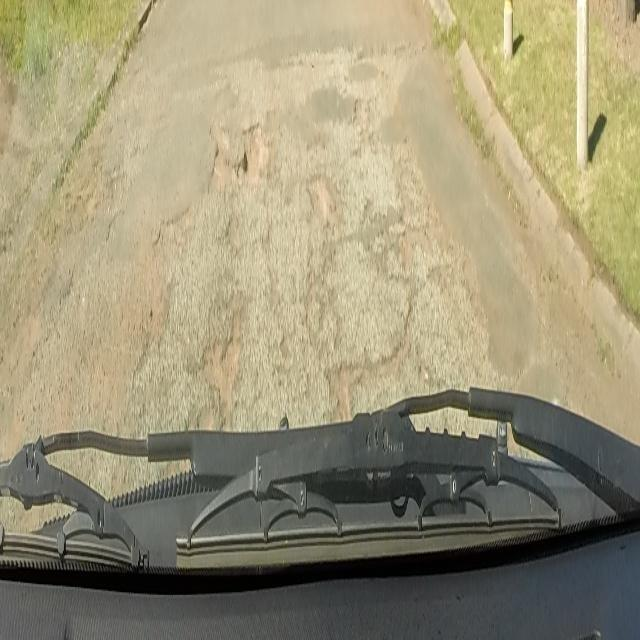pothole: (317, 291, 421, 429), (191, 314, 250, 430), (303, 170, 340, 230), (237, 120, 264, 186)
